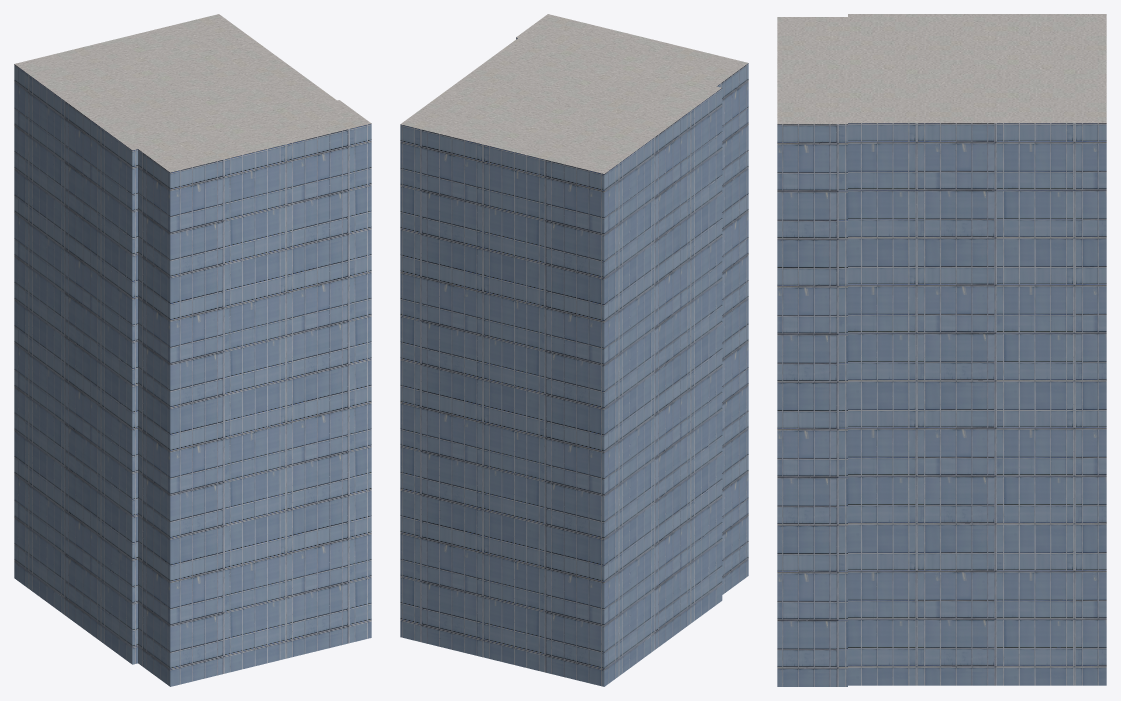
Rendered from building_016.glb.
The picture shows the model from 3 angles, left to right: view 1: azimuth 30°, elevation 25°; view 2: azimuth 150°, elevation 25°; view 3: azimuth 270°, elevation 25°; orthographic projection. The views are drawn at different scales.
Visible parts, largest first — view 1: building_016; view 2: building_016; view 3: building_016.
Boxes of the visible parts, <box> form: building_016: <box>14,14,371,686</box>; building_016: <box>400,14,748,686</box>; building_016: <box>777,14,1106,686</box>.
Bounding box in the file's own units: 1011 × 2400 × 1273.
Materials: 2 (2 with a texture image).
